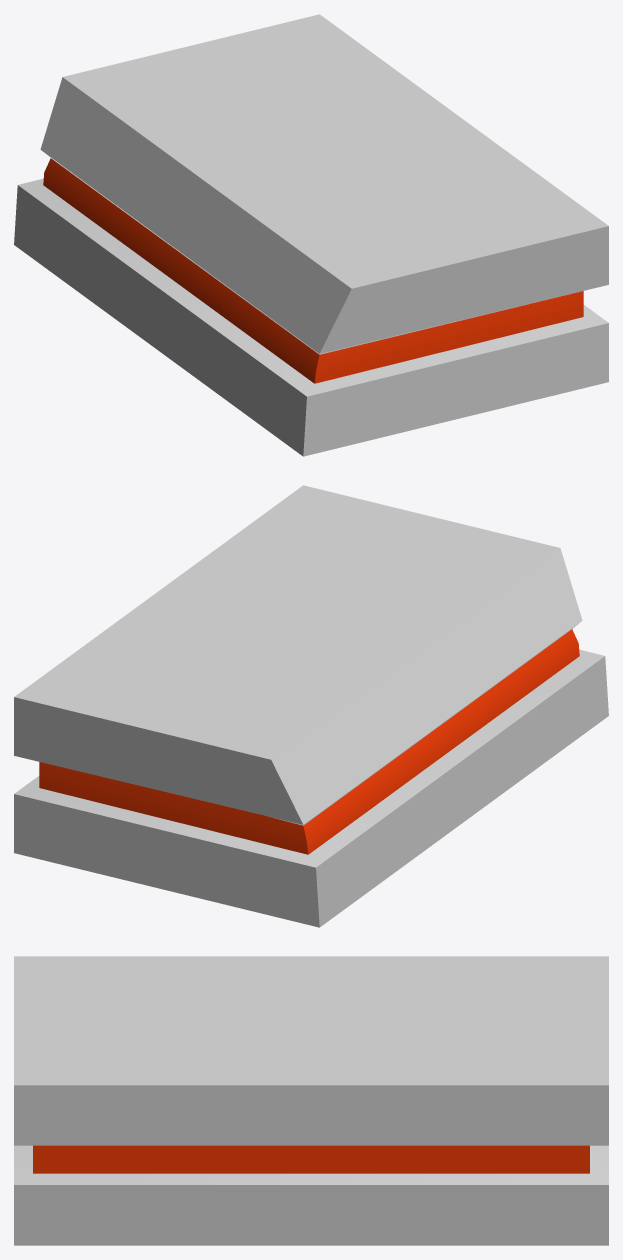
File: Platform_2.FBX
3 views of the same model, one above another, from view 1: azimuth 30°, elevation 25°; view 2: azimuth 150°, elevation 25°; view 3: azimuth 270°, elevation 25° (orthographic). The views are drawn at different scales.
Visible parts, largest first — view 1: Box001; view 2: Box001; view 3: Box001.
Boxes of the visible parts, box(x1,y1,x2,y2) form: Box001: box(14, 14, 608, 456); Box001: box(14, 485, 608, 927); Box001: box(14, 956, 608, 1245).
Size of the model in its own units: 40.5 by 19.76 by 66.39.
